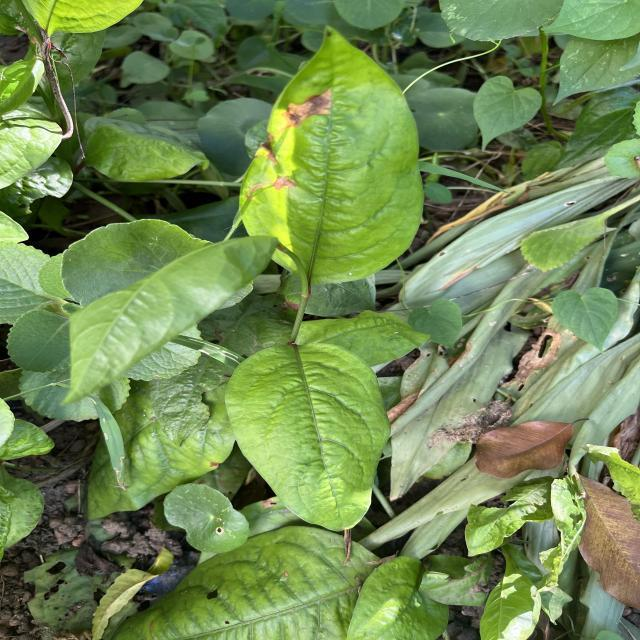Plumbago indica: (235, 18, 430, 292), (220, 336, 394, 538)
